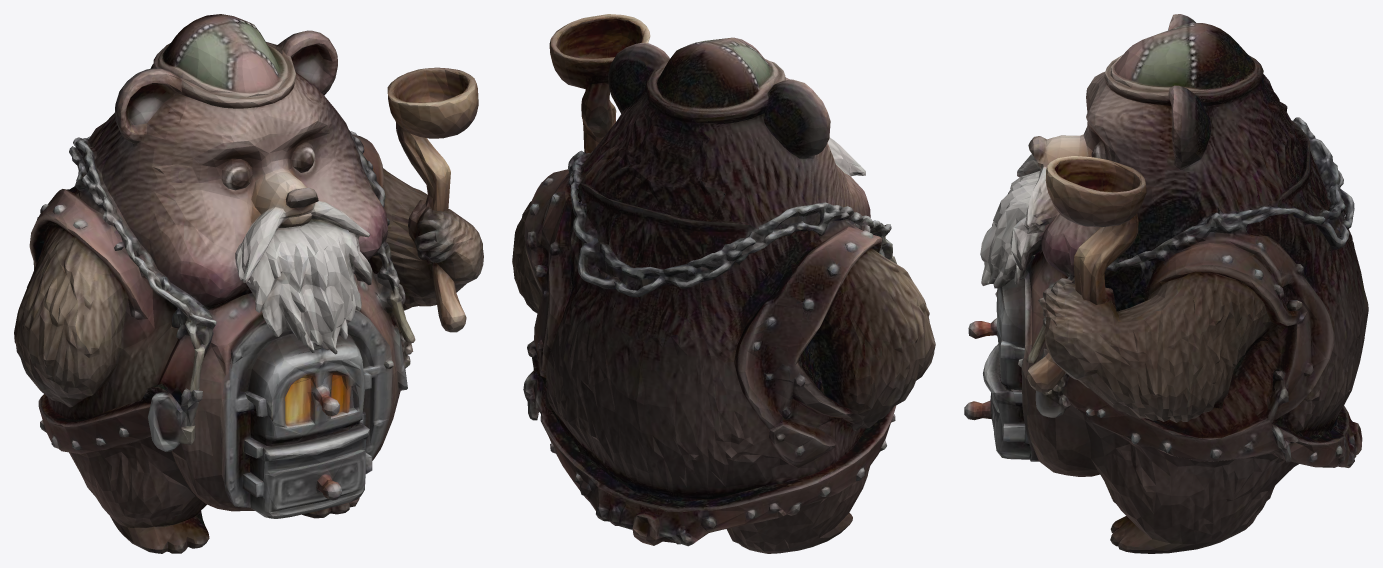
The model's file is hearthkin__domovoiElder.glb.
3 views of the same model, side by side, from view 1: azimuth 30°, elevation 25°; view 2: azimuth 150°, elevation 25°; view 3: azimuth 270°, elevation 25° (orthographic).
Parts seen in each view (by area): view 1: world; view 2: world; view 3: world.
Boxes of the visible parts, x1,y1,x2,y2 form: world: [14, 14, 483, 553]; world: [512, 14, 935, 553]; world: [964, 14, 1368, 553].
Bounding box in the file's own units: 0.9017 × 0.9988 × 0.7683.
1 material, 1 textured.
